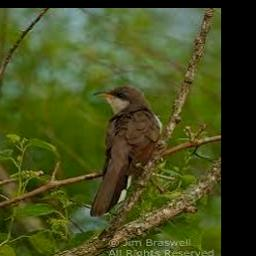Cuckoo: (89, 86, 163, 216)
